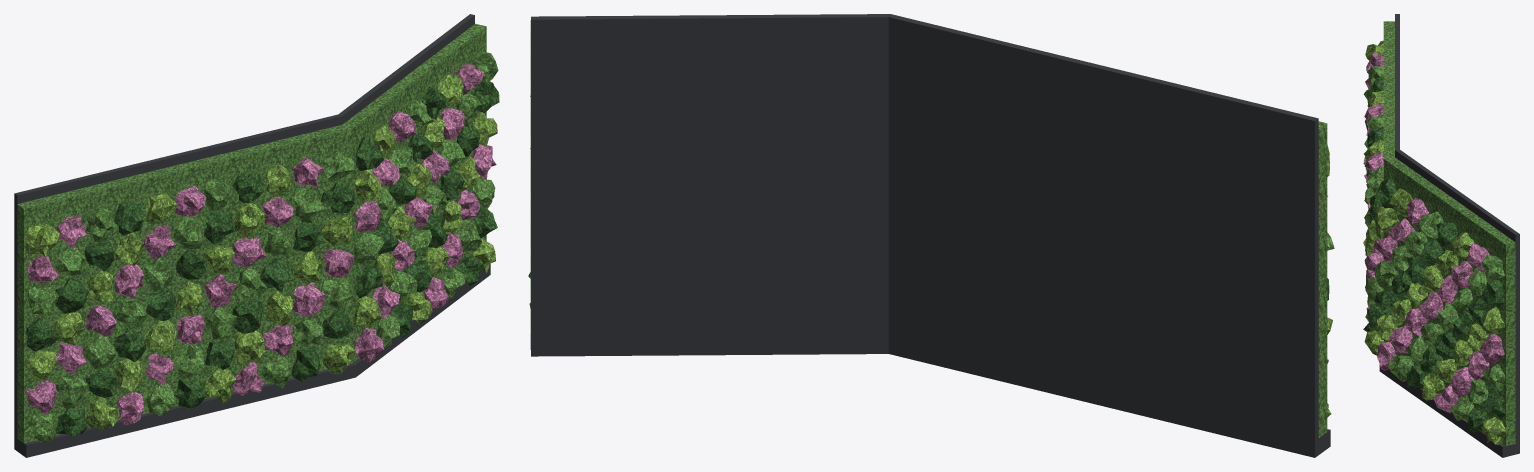
The picture shows the model from 3 angles, left to right: view 1: azimuth 30°, elevation 25°; view 2: azimuth 150°, elevation 25°; view 3: azimuth 270°, elevation 25°; orthographic projection. The views are drawn at different scales.
Visible parts, largest first — view 1: landscape.green_wall (×5); view 2: landscape.green_wall (×2); view 3: landscape.green_wall (×5).
Part boxes in pixels (<box>): landscape.green_wall (×5): <box>14,14,499,457</box>; landscape.green_wall (×2): <box>530,14,1334,457</box>; landscape.green_wall (×5): <box>1363,14,1519,457</box>.
Bounding box in the file's own units: 6.65 × 1.94 × 3.
Materials: 5 (4 with a texture image).
